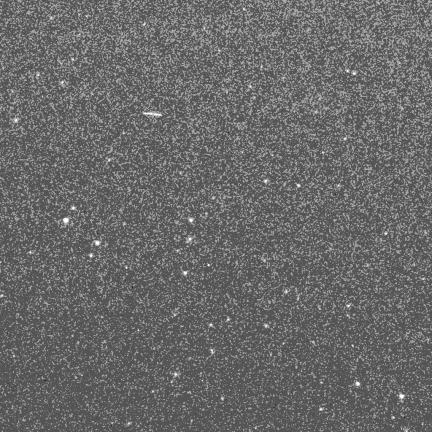blob: (63, 218, 69, 224), (356, 381, 361, 387), (264, 179, 269, 184), (399, 394, 404, 399), (188, 237, 193, 242), (89, 254, 95, 258), (189, 218, 194, 222), (95, 241, 100, 245), (284, 289, 288, 294), (264, 324, 269, 328), (209, 323, 213, 327), (212, 196, 216, 200), (352, 71, 356, 75), (384, 232, 388, 236), (183, 271, 187, 275), (71, 206, 75, 210), (319, 408, 324, 411), (227, 317, 230, 321), (221, 396, 224, 400), (346, 68, 349, 72), (61, 81, 65, 84), (208, 264, 211, 267), (297, 184, 300, 187), (392, 416, 395, 419), (344, 138, 347, 140)
streak: (144, 113, 161, 116)
